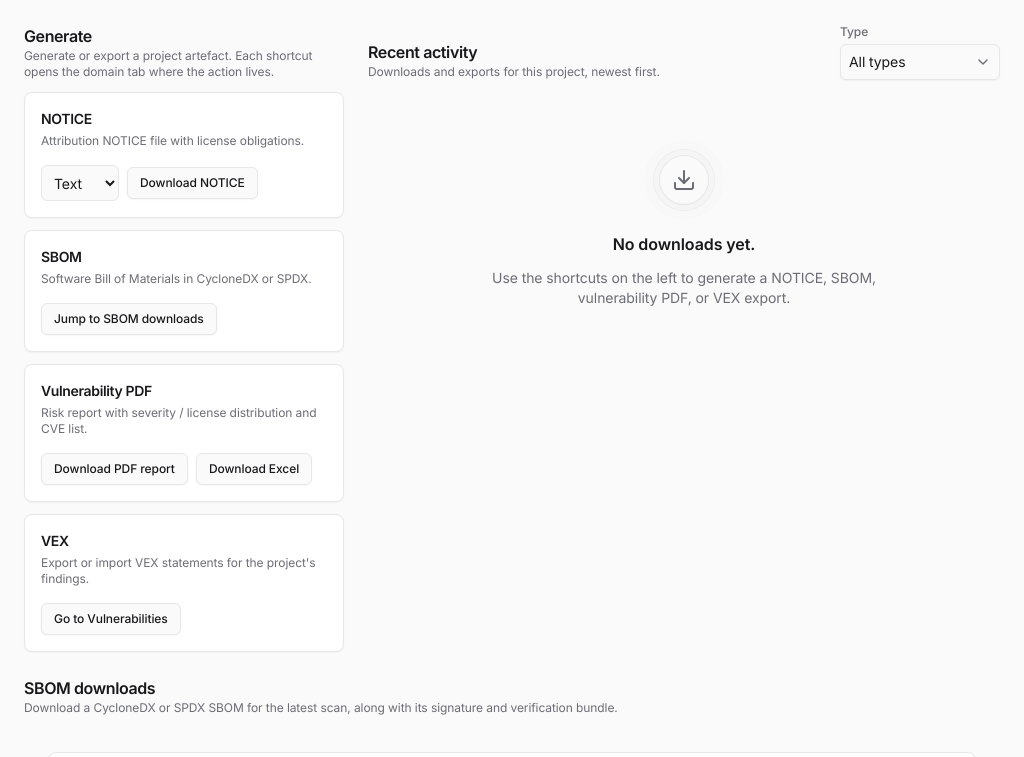
it: ReportsTab › shows a vulnerability report failure translated, not as the server's English
The image size is (1024, 757).
Click the button with test id "reports-card-vuln-pdf-download" at (114, 469), box [41,453,188,485]
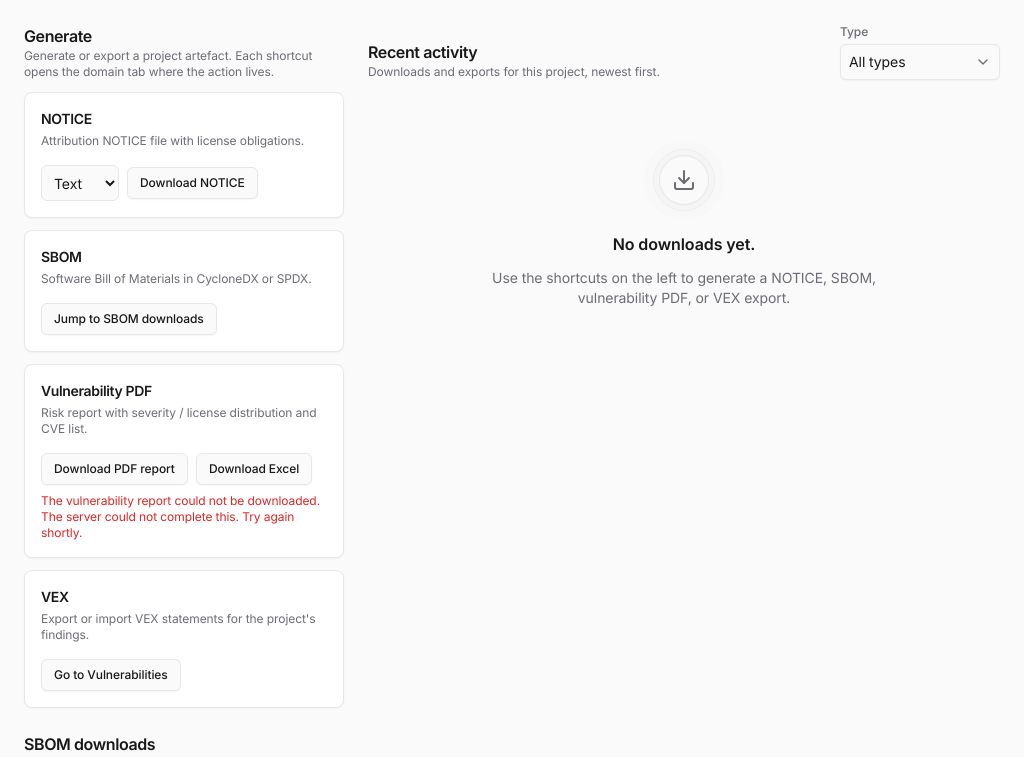
Expected: the text with test id "reports-card-vuln-pdf-error" does not show "database unavailable", [41,493,327,541]
Now the text with test id "reports-card-vuln-pdf-error" shows "The vulnerability report could not be downloaded.", box [41,493,320,540]
